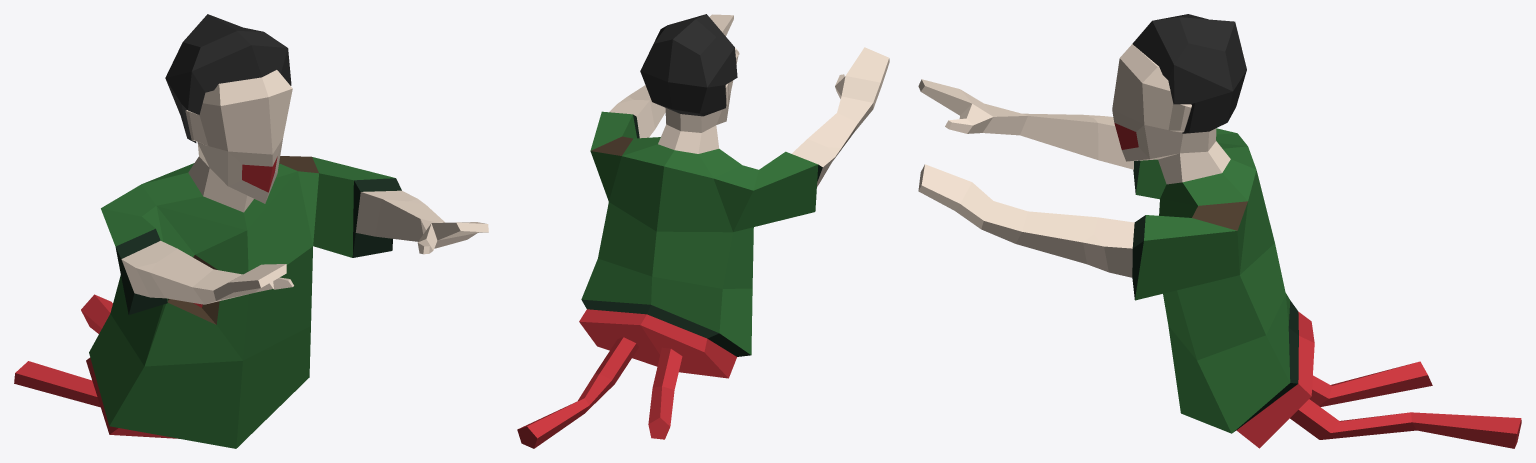
Rendered from people-man-zombie-half.glb.
3 views of the same model, side by side, from view 1: azimuth 30°, elevation 25°; view 2: azimuth 150°, elevation 25°; view 3: azimuth 270°, elevation 25° (orthographic). The views are drawn at different scales.
Visible parts, largest first — view 1: man-zombie-half; view 2: man-zombie-half; view 3: man-zombie-half.
Part boxes in pixels (box(x1,y1,x2,y2)): man-zombie-half: box(14, 14, 488, 448); man-zombie-half: box(517, 14, 889, 448); man-zombie-half: box(918, 14, 1521, 448).
Bounding box in the file's own units: 0.5868 × 0.862 × 1.15.
